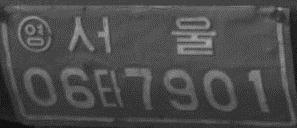0: (202, 68, 237, 112), (22, 66, 57, 108)
1: (242, 69, 273, 114)
6: (59, 66, 94, 109)
7: (125, 66, 155, 111)
9: (162, 67, 197, 111)
서울_D: (66, 15, 216, 58)
영: (16, 14, 52, 52)
타: (95, 68, 124, 108)
